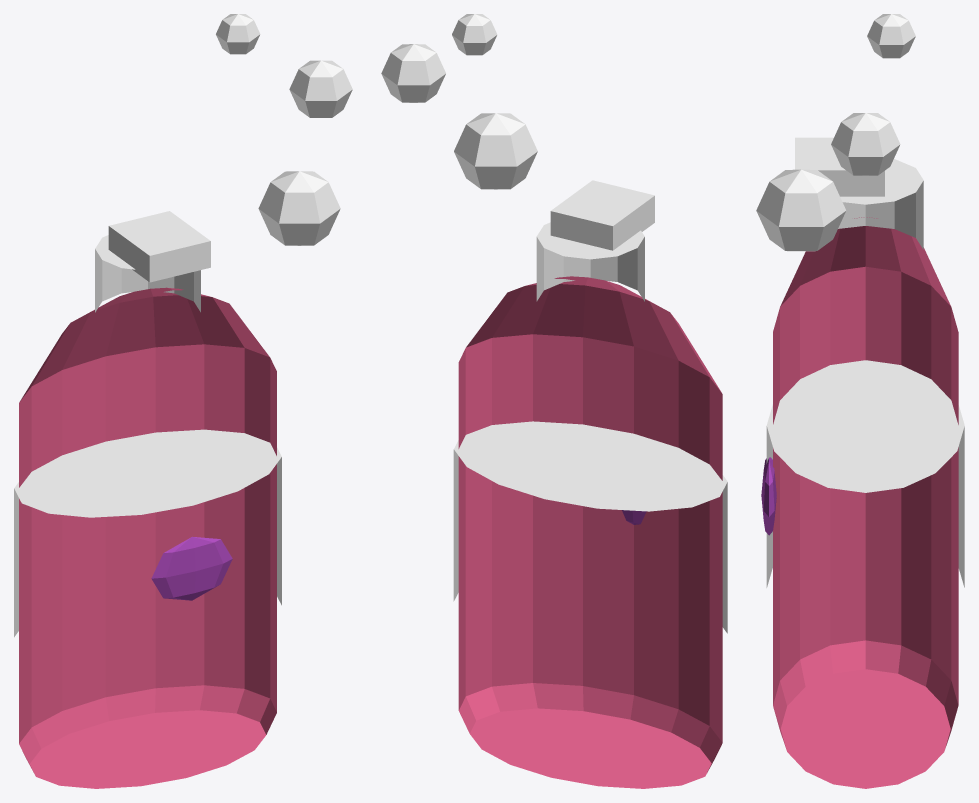
Rendered from schampo.glb.
3 renders of one model, left to right at view 1: azimuth 30°, elevation 25°; view 2: azimuth 150°, elevation 25°; view 3: azimuth 270°, elevation 25°, orthographic. The views are drawn at different scales.
Parts seen in each view (by area): view 1: schampo; view 2: schampo; view 3: schampo.
Boxes of the visible parts, x1,y1,x2,y2 form: schampo: (14, 14, 352, 788); schampo: (381, 14, 727, 788); schampo: (756, 14, 964, 788).
Size of the model in its own units: 0.3174 by 0.659 by 0.1619.
